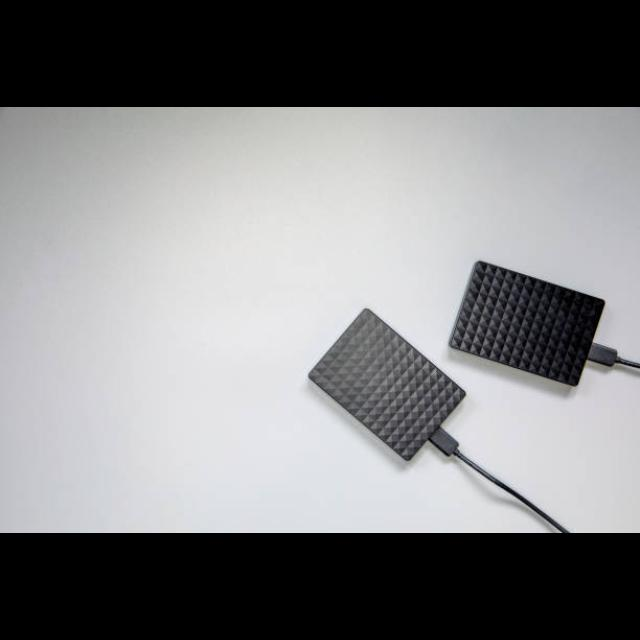HDD: (307, 309, 467, 465), (448, 261, 605, 388)
